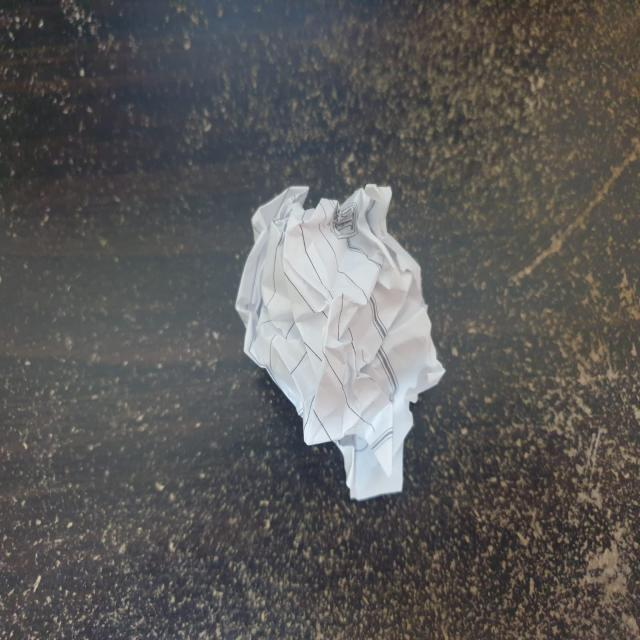Paper: (235, 182, 444, 494)
